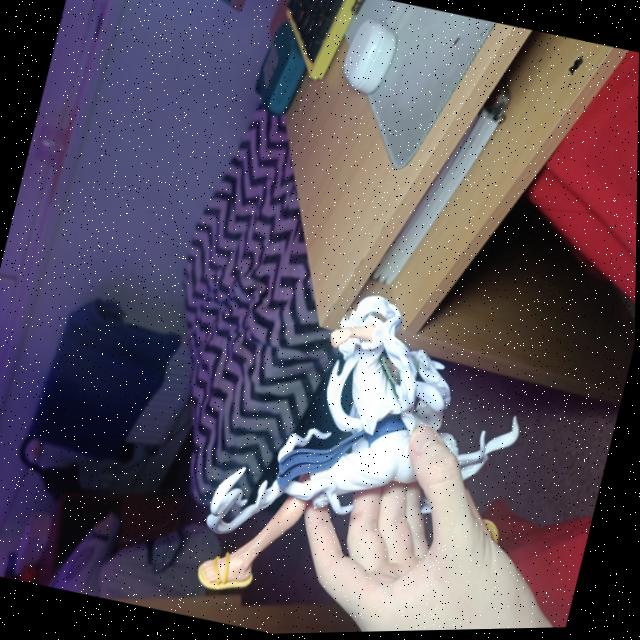luffy: (198, 266, 481, 585)
